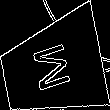M_W: (30, 39, 76, 96)
